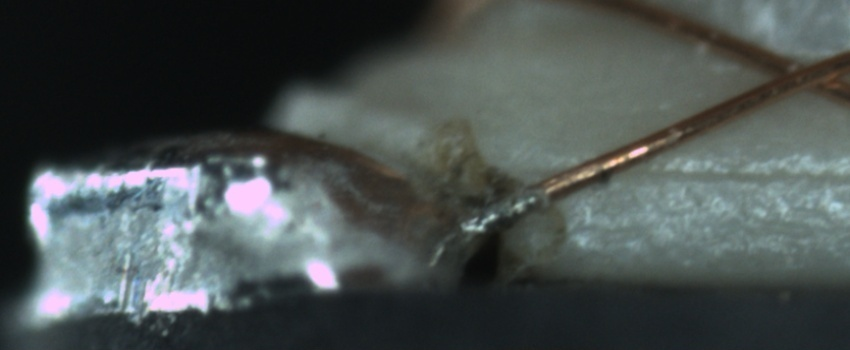CL: (751, 43, 843, 103)
DL: (574, 141, 842, 207)
TS: (463, 186, 542, 237)
